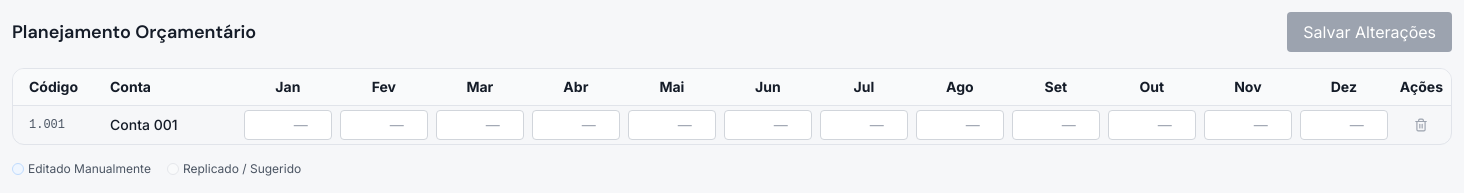
Test: BudgetGrid › deve limpar a linha ao clicar no botao de acao
This screenshot has width=1464, height=193.
Type "1000" into the 1st number field with placeholder "—" at (288, 125), box [244,110,332,140]
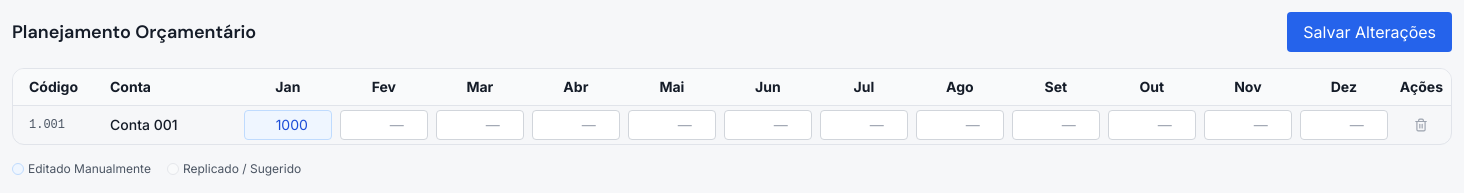
Leave the number field with placeholder "—", box [244,110,332,140]
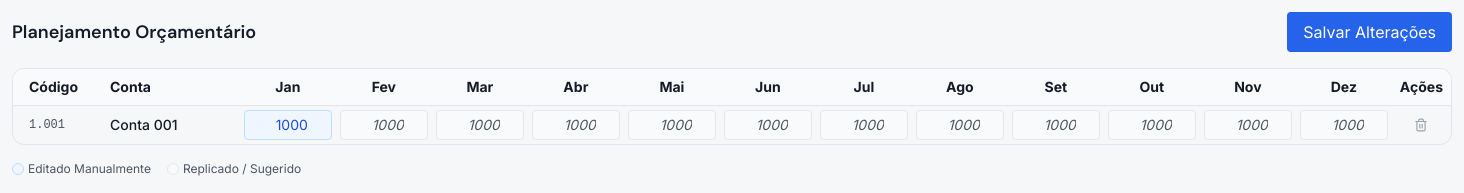
Expected: the 2nd number field with placeholder "—" holds "1000", [340,110,428,140]
Click the button titled "Limpar linha" at (1421, 124), box [1410,114,1432,136]
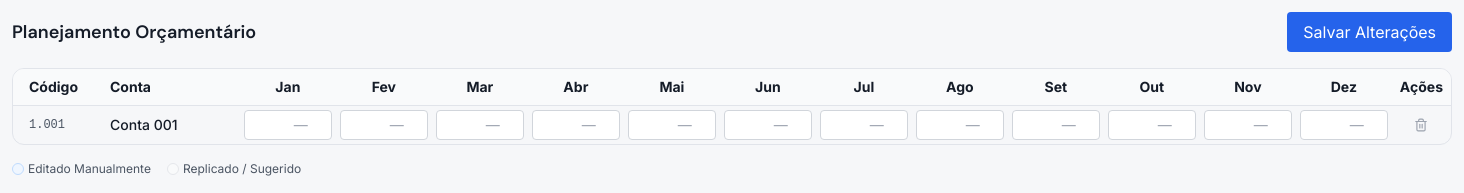
Expected: the 1st number field with placeholder "—" is not empty, [244,110,332,140]
Expected: the 2nd number field with placeholder "—" is not empty, [340,110,428,140]
Expected: the 3rd number field with placeholder "—" is not empty, [436,110,524,140]
